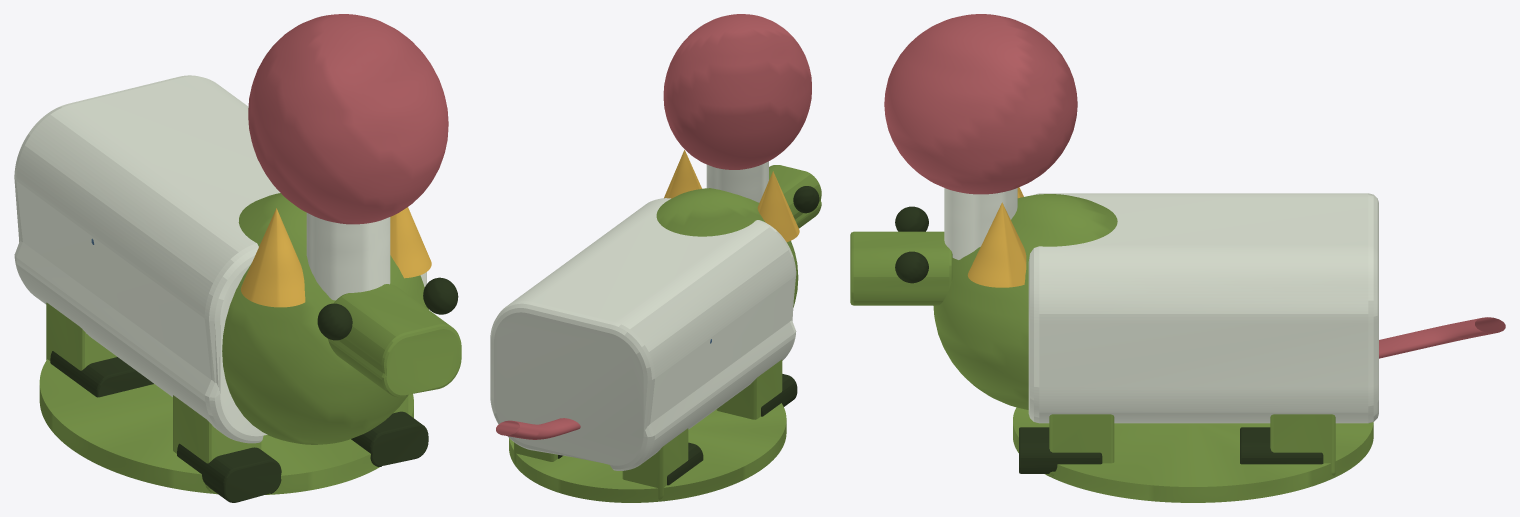
Rendered from 0301_古生代动物图鉴_林蜥.glb.
The picture shows the model from 3 angles, left to right: view 1: azimuth 30°, elevation 25°; view 2: azimuth 150°, elevation 25°; view 3: azimuth 270°, elevation 25°; orthographic projection. The views are drawn at different scales.
Visible parts, largest first — view 1: card_0301; view 2: card_0301; view 3: card_0301.
Part boxes in pixels (x1,y1,x2,y2): card_0301: (14,14,461,502); card_0301: (490,14,821,502); card_0301: (850,14,1505,502).
Bounding box in the file's own units: 0.6817 × 1 × 1.42.
